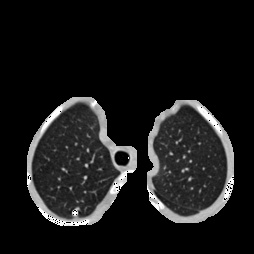PN: (71, 209, 79, 217)
